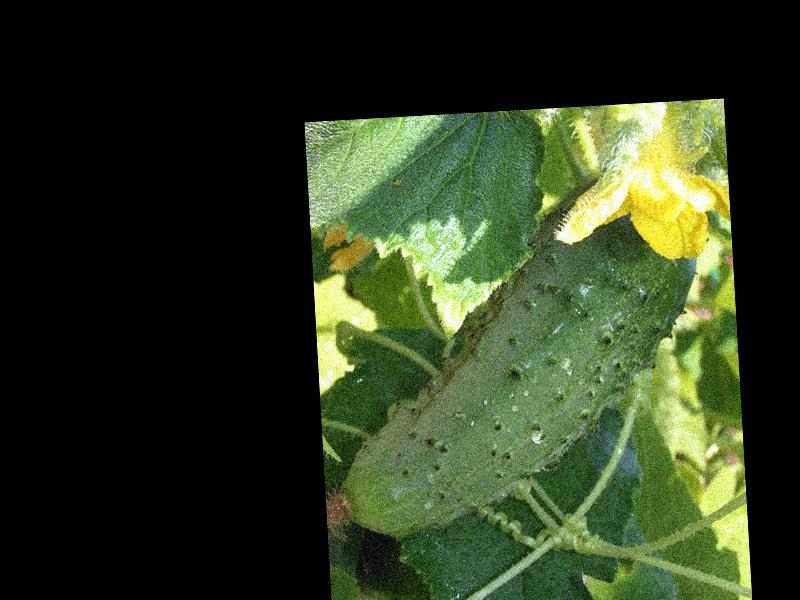Cucumber: (309, 171, 711, 541)
